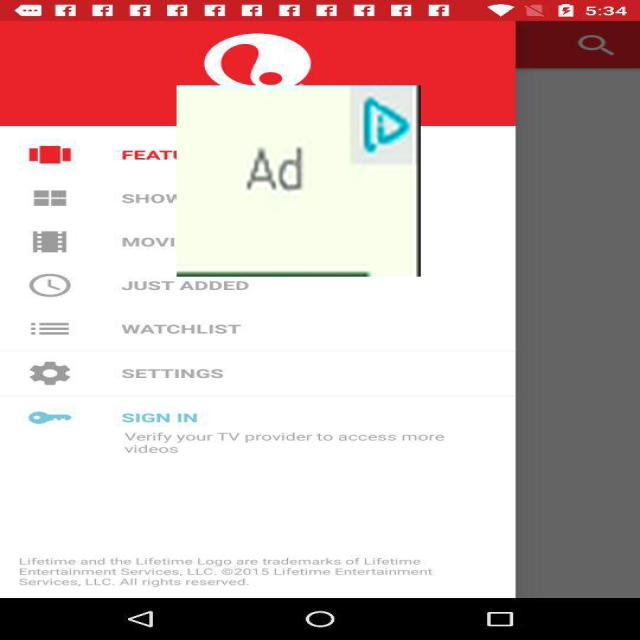sneaking: (177, 85, 420, 277)
